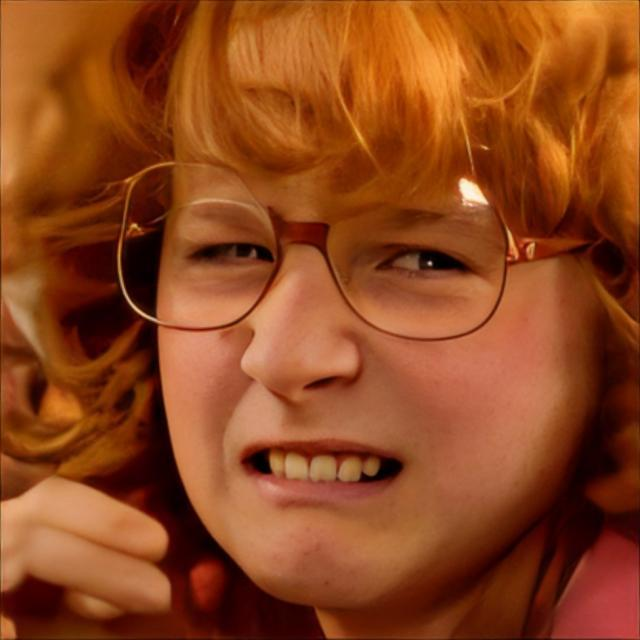disgust: (156, 24, 603, 612)
